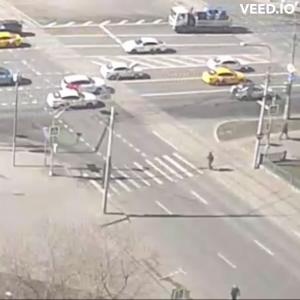car: (46, 90, 107, 113), (62, 75, 107, 98), (102, 62, 151, 82), (123, 38, 174, 57), (207, 53, 249, 71), (201, 70, 248, 86), (233, 84, 266, 103), (1, 66, 24, 85), (1, 33, 26, 50), (1, 22, 26, 36)
